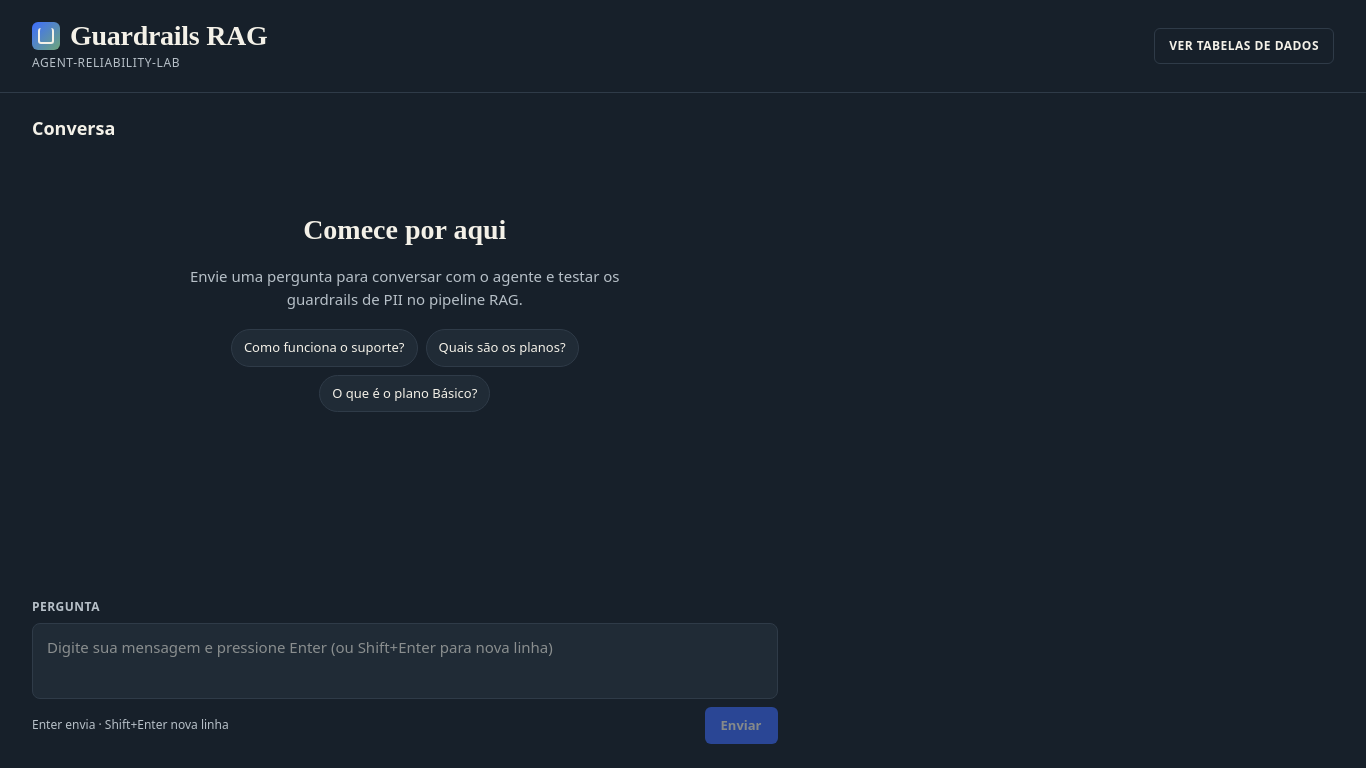
it: RAG PII Chat Broad Build › AC-RAGPII-TABLEEDITOR-001: botao 'Ver Tabelas de Dados' abre overlay com tabela
This screenshot has width=1366, height=768.
Click the button with test id "open-table-editor". click: (1244, 46)
box: [1154,28,1334,64]
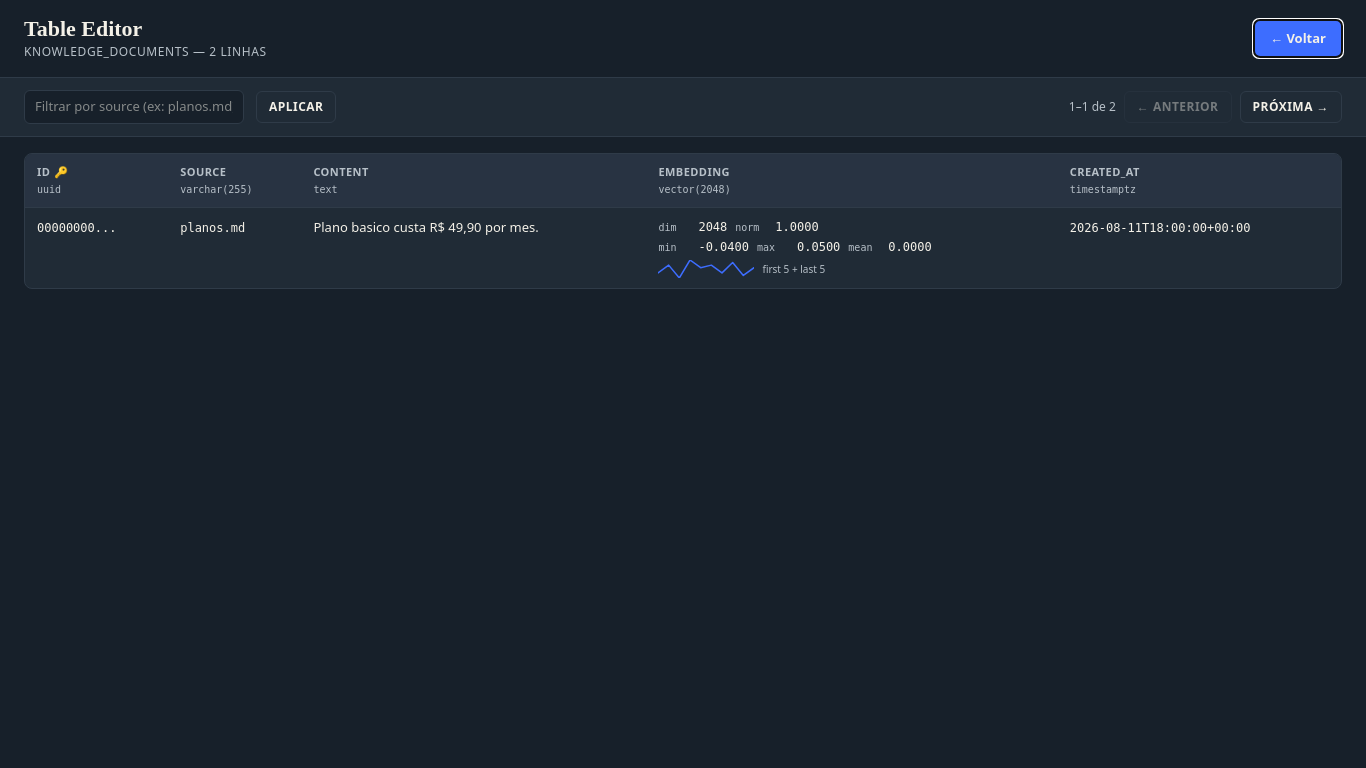
Expected: the dialog named "Table Editor" is shown
Expected: the text "Table Editor" is shown, [24,16,142,41]
Expected: the text "knowledge_documents" is shown, [24,43,267,60]
